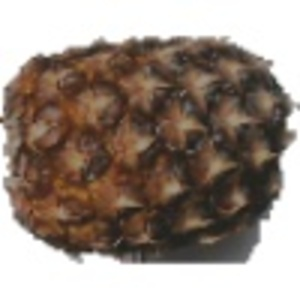abacaxi: (3, 31, 296, 252)
